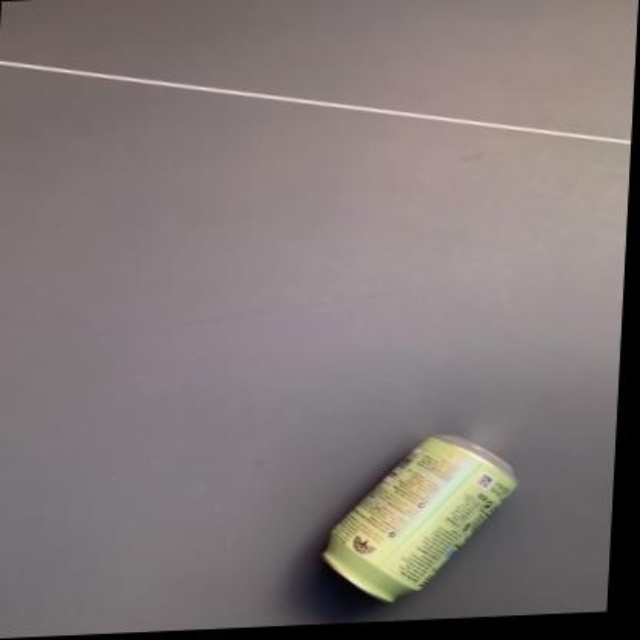trash: (323, 435, 515, 602)
